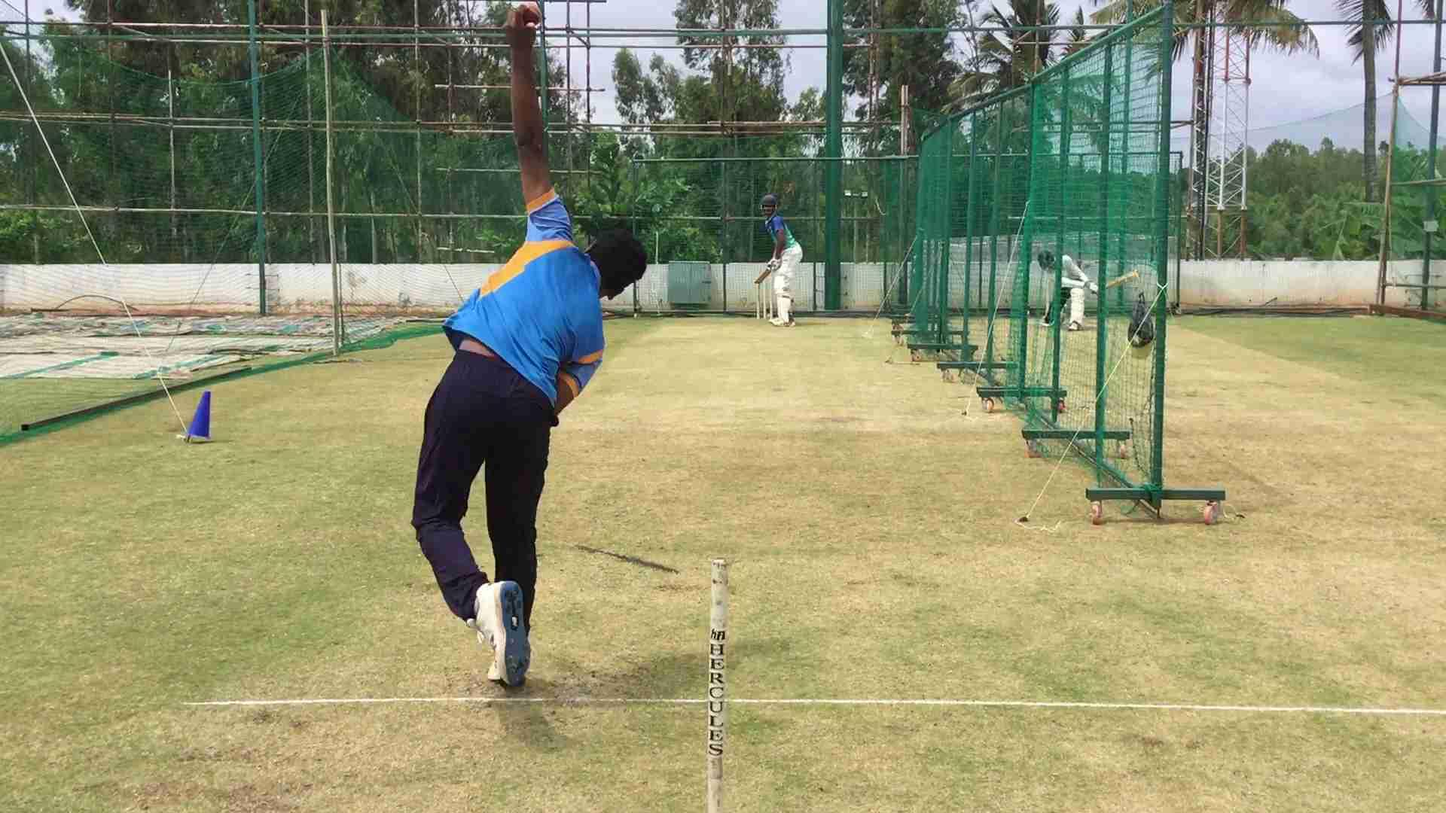batsman: (750, 189, 808, 332)
